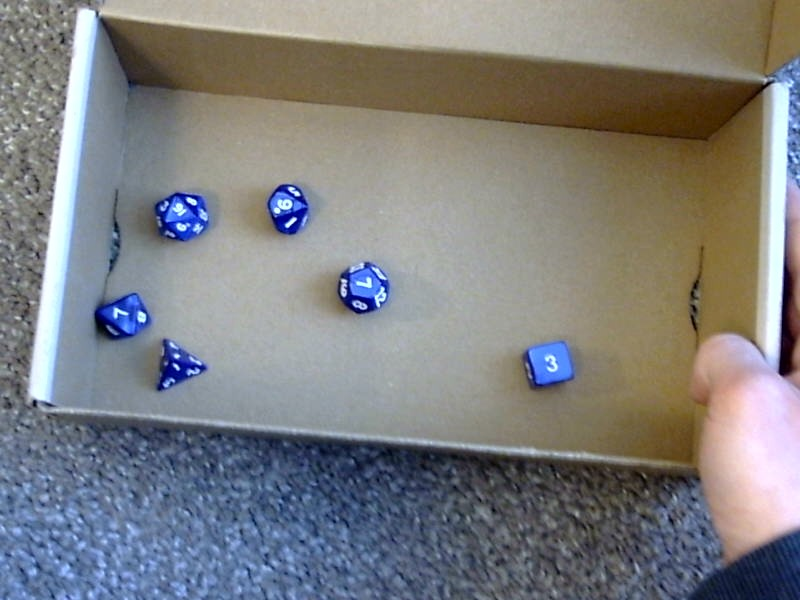d10 9: (264, 178, 309, 238)
d12 7: (337, 253, 389, 316)
d20 16: (150, 188, 210, 245)
d4 1: (154, 335, 208, 392)
d6 3: (516, 333, 578, 394)
d8 7: (90, 286, 153, 342)
